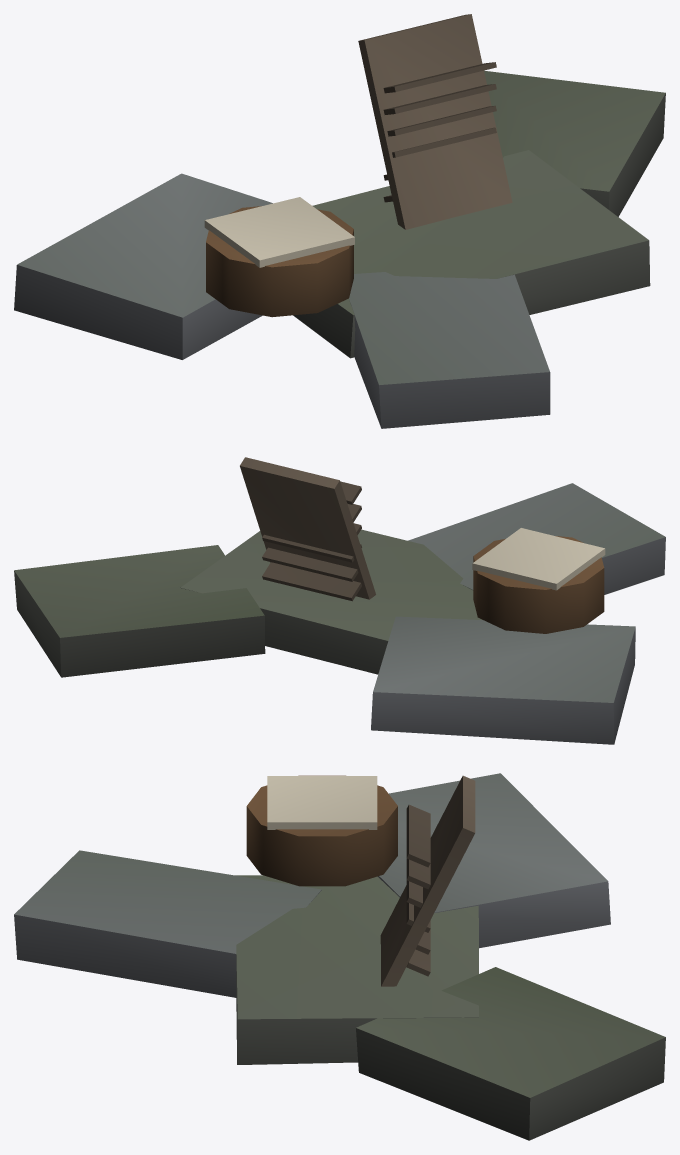
The model's file is ph_prop_v_wash_stones.glb.
The picture shows the model from 3 angles, top to bottom: view 1: azimuth 30°, elevation 25°; view 2: azimuth 150°, elevation 25°; view 3: azimuth 270°, elevation 25°; orthographic projection. The views are drawn at different scales.
Visible parts, largest first — view 1: ph_prop_v_wash_stones; view 2: ph_prop_v_wash_stones; view 3: ph_prop_v_wash_stones.
Part boxes in pixels (<box>): ph_prop_v_wash_stones: <box>14,14,665,428</box>; ph_prop_v_wash_stones: <box>14,457,665,744</box>; ph_prop_v_wash_stones: <box>14,773,665,1140</box>.
Bounding box in the file's own units: 2.23 × 0.6589 × 1.9.
